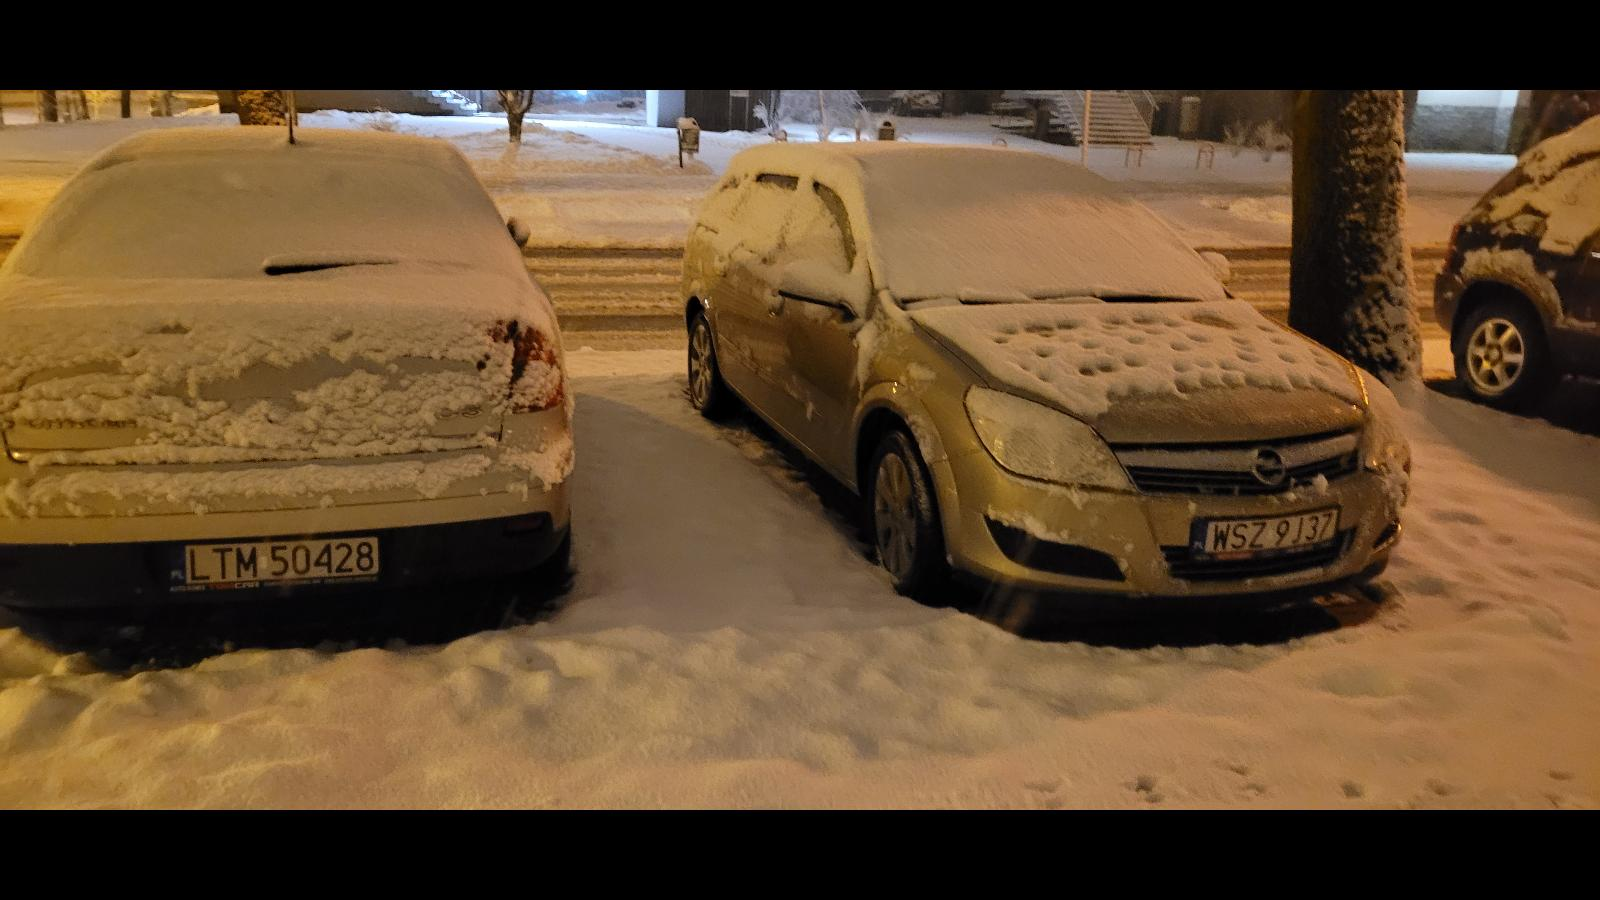plates: (167, 535, 381, 593), (1192, 507, 1340, 562)
